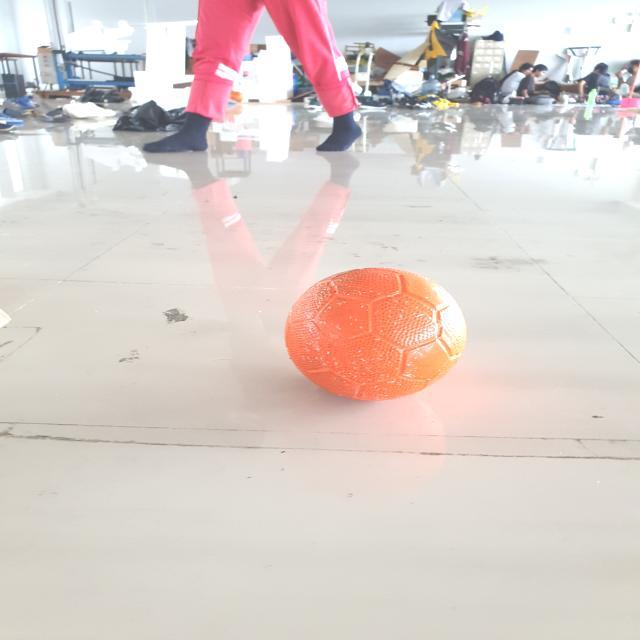bola: (282, 264, 474, 414)
